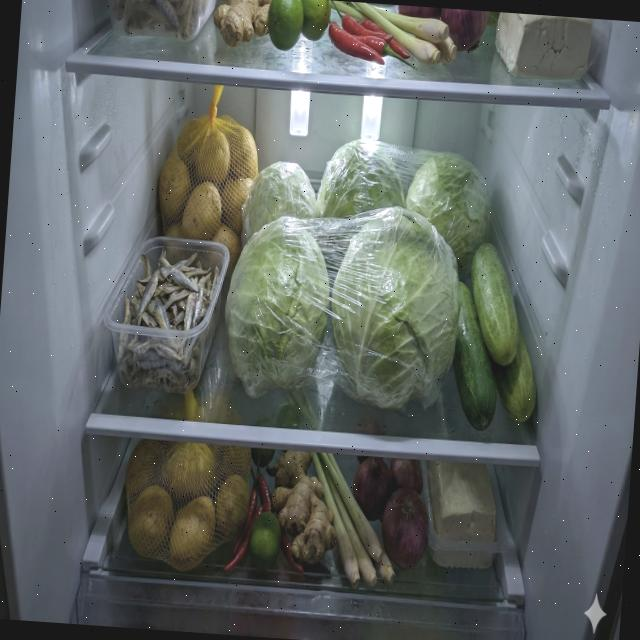anchovies: (115, 237, 222, 393)
cabbage: (324, 202, 466, 415), (218, 212, 334, 404), (400, 148, 494, 274), (315, 135, 408, 223), (240, 158, 322, 256)
chili: (223, 464, 312, 576), (326, 0, 422, 70)
cucumber: (448, 240, 546, 436)
ginger: (266, 448, 344, 566), (210, 0, 271, 50)
lemongrass: (302, 451, 404, 592), (327, 0, 459, 68)
lime: (264, 0, 331, 53), (248, 510, 284, 572)
onion: (347, 455, 432, 570)
potato: (119, 438, 254, 576), (152, 111, 262, 271)
tofu: (420, 459, 500, 572), (492, 12, 592, 82)
